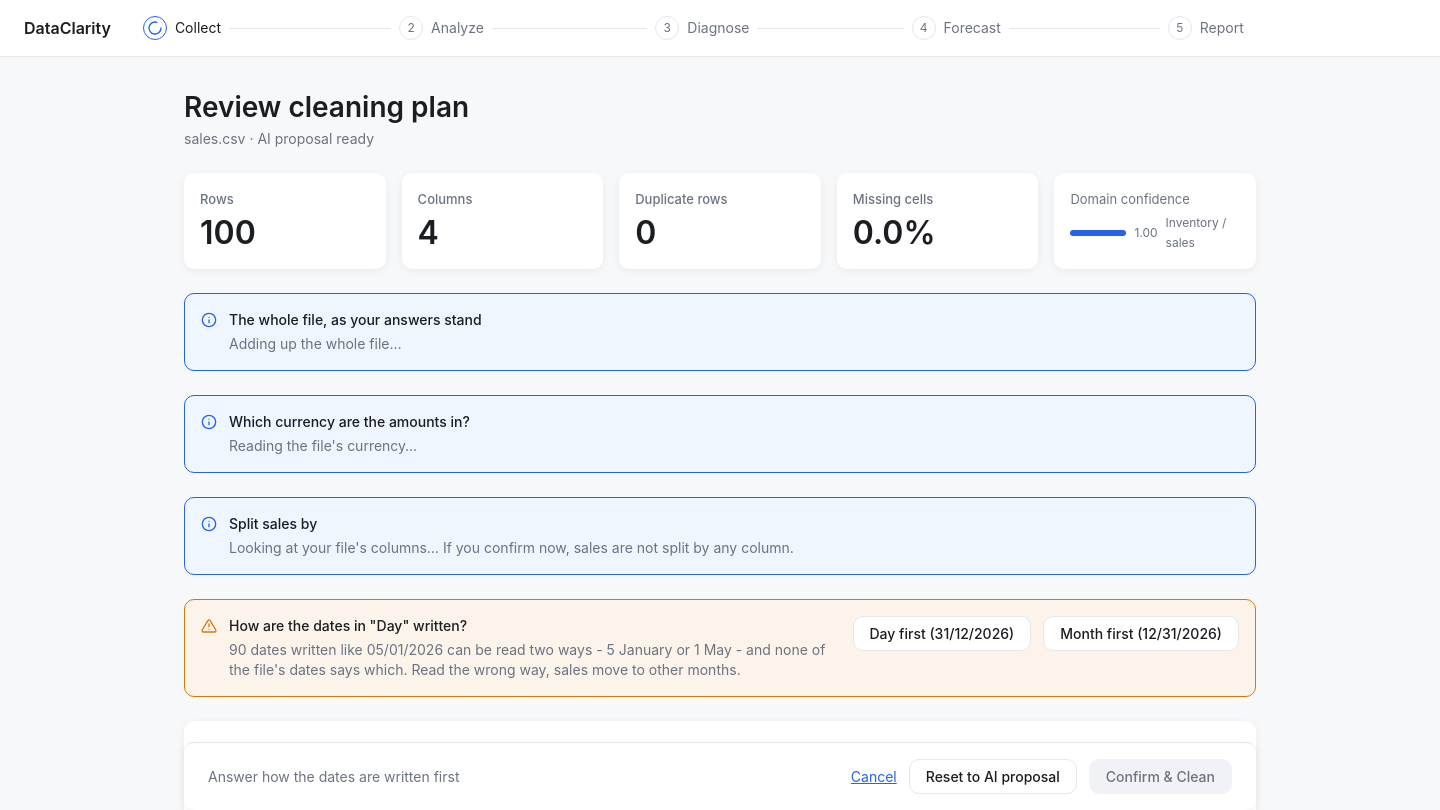
Scenario: ReviewPage: how the dates are written › can change the answer
This screenshot has width=1440, height=810.
Click the button "Month first (12/31/2026)" at (1141, 634), box [1043,616,1239,651]
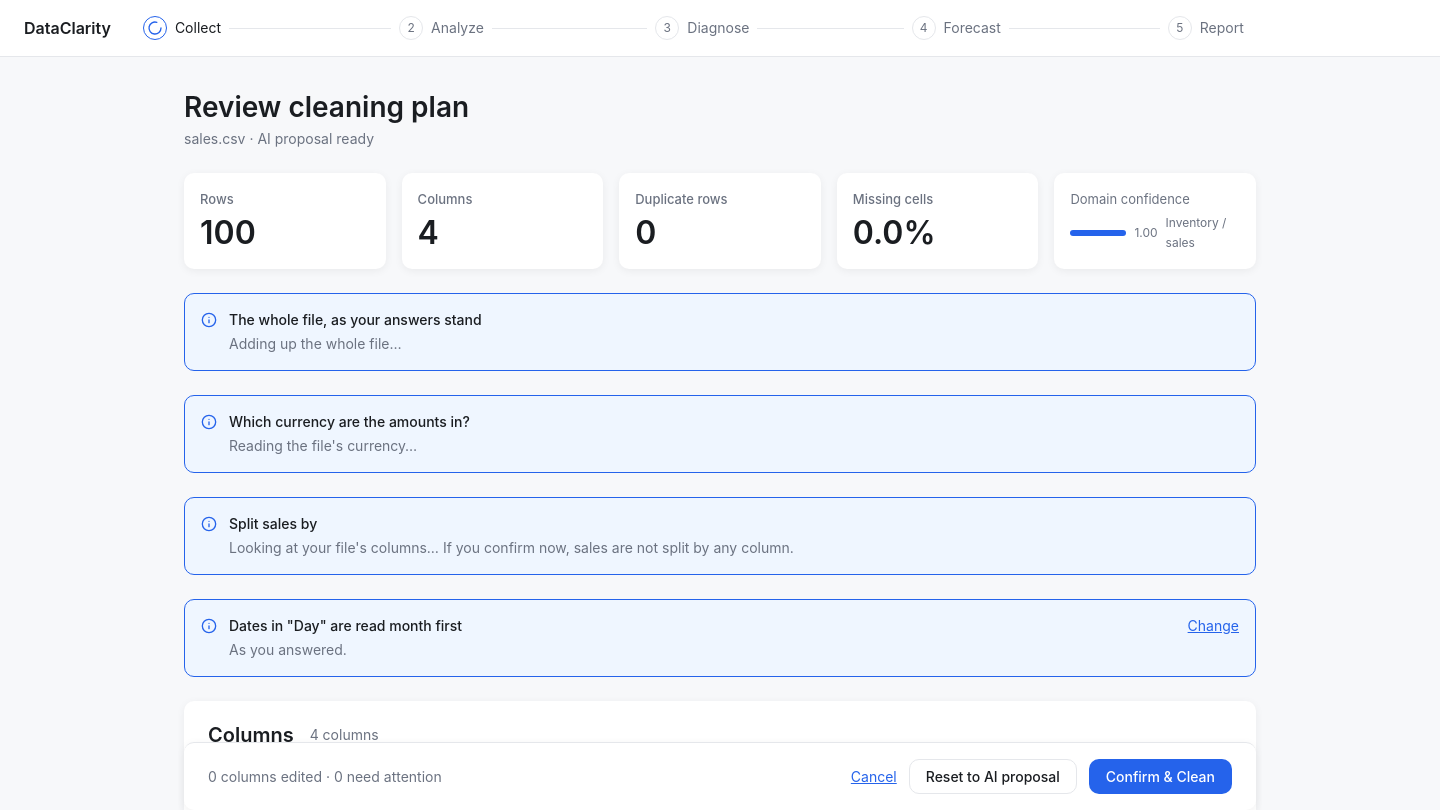
Click the button "Change" at (1213, 626), box [1188,616,1239,636]
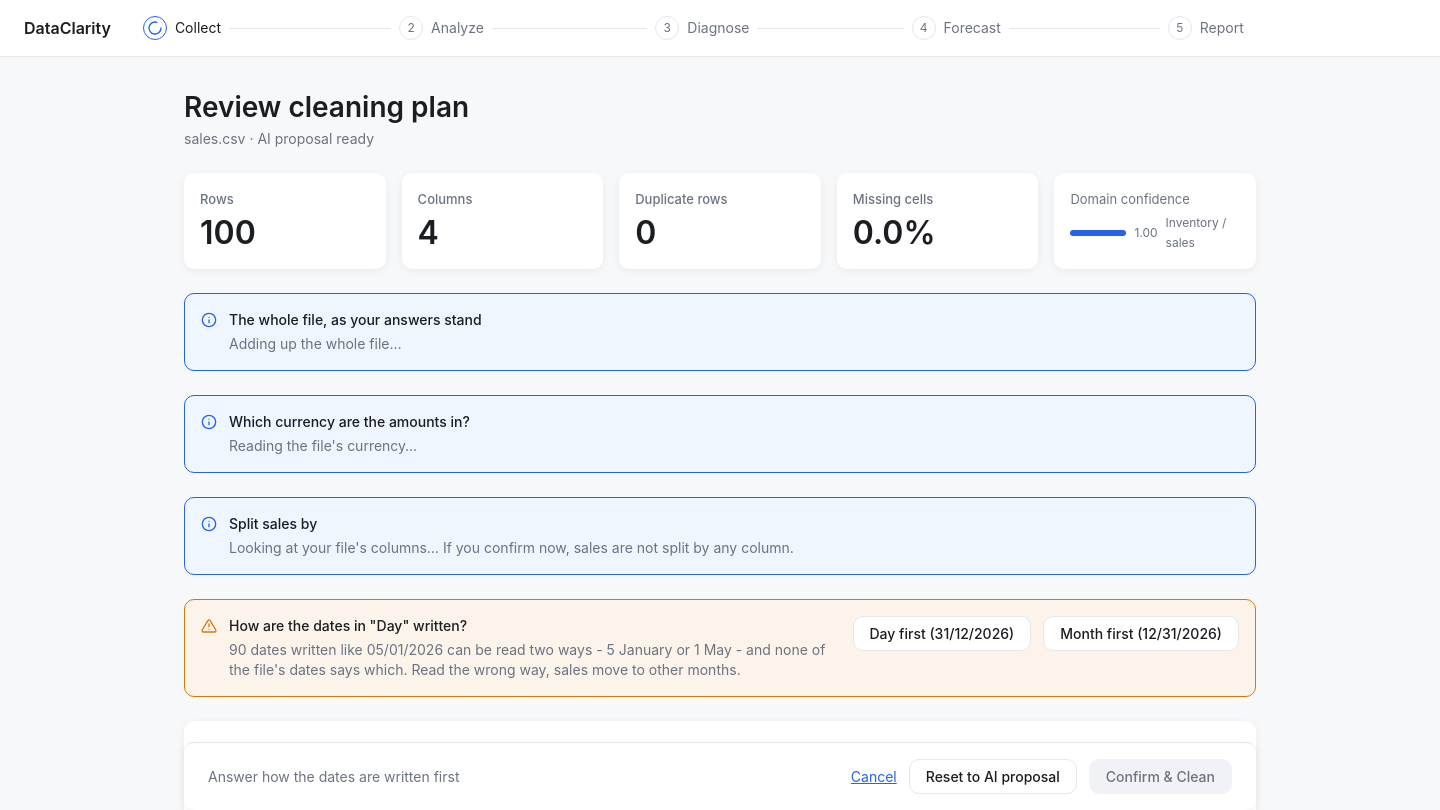
expect the text "How are the dates in \"Day\" written?" is shown: met, box [229,617,467,634]
expect the button "Confirm & Clean" is disabled: met, box [1089,759,1232,794]
